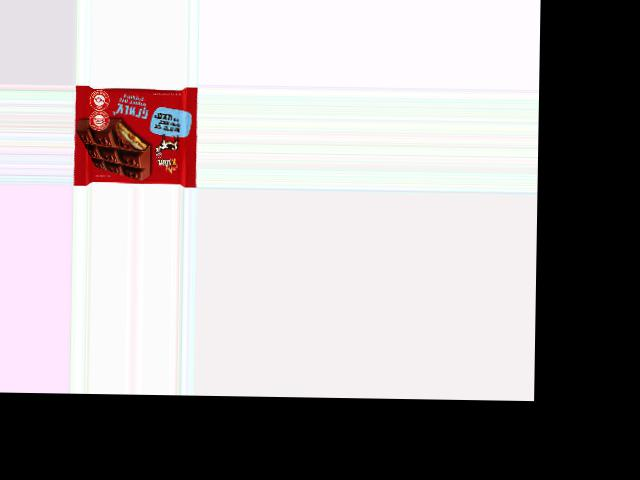chocolate: (75, 84, 193, 186)
